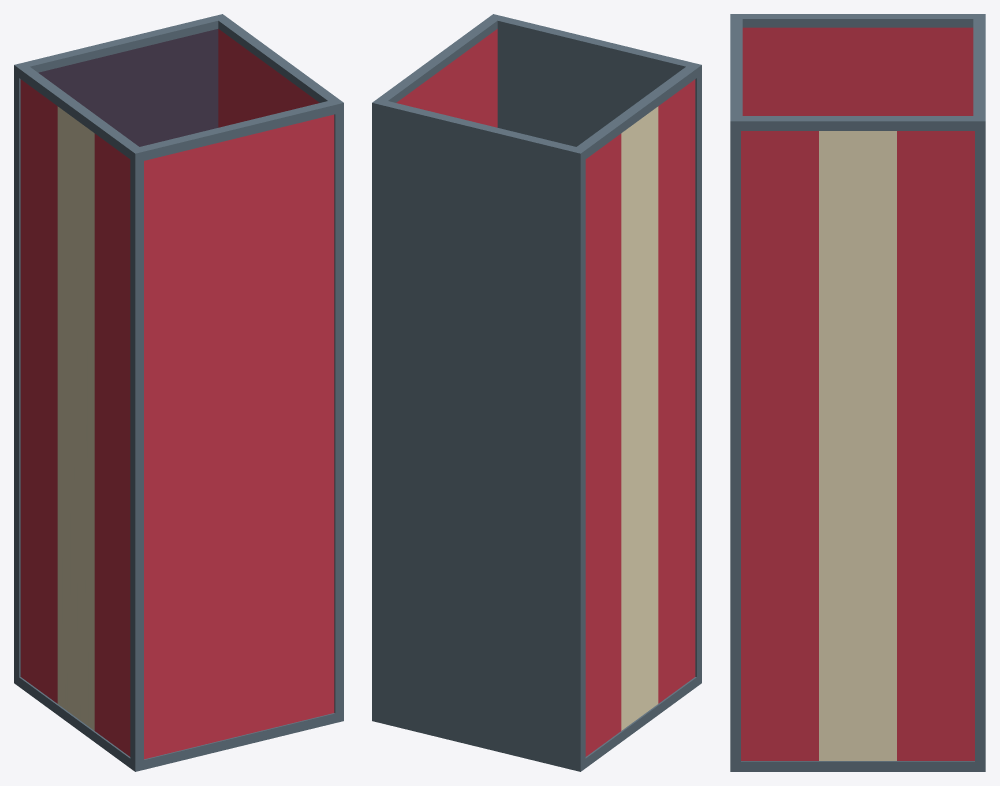
The model's file is 235_Truck_laatikko.gltf.
3 renders of one model, left to right at view 1: azimuth 30°, elevation 25°; view 2: azimuth 150°, elevation 25°; view 3: azimuth 270°, elevation 25°, orthographic. The views are drawn at different scales.
Visible parts, largest first — view 1: Truck_laatikko; view 2: Truck_laatikko; view 3: Truck_laatikko.
Part boxes in pixels (x1=…): Truck_laatikko: x1=14, y1=14, x2=343, y2=771; Truck_laatikko: x1=372, y1=14, x2=701, y2=771; Truck_laatikko: x1=730, y1=14, x2=985, y2=771.
Size of the model in its own units: 2.3 by 6.52 by 2.32.
1 material, 1 textured.
